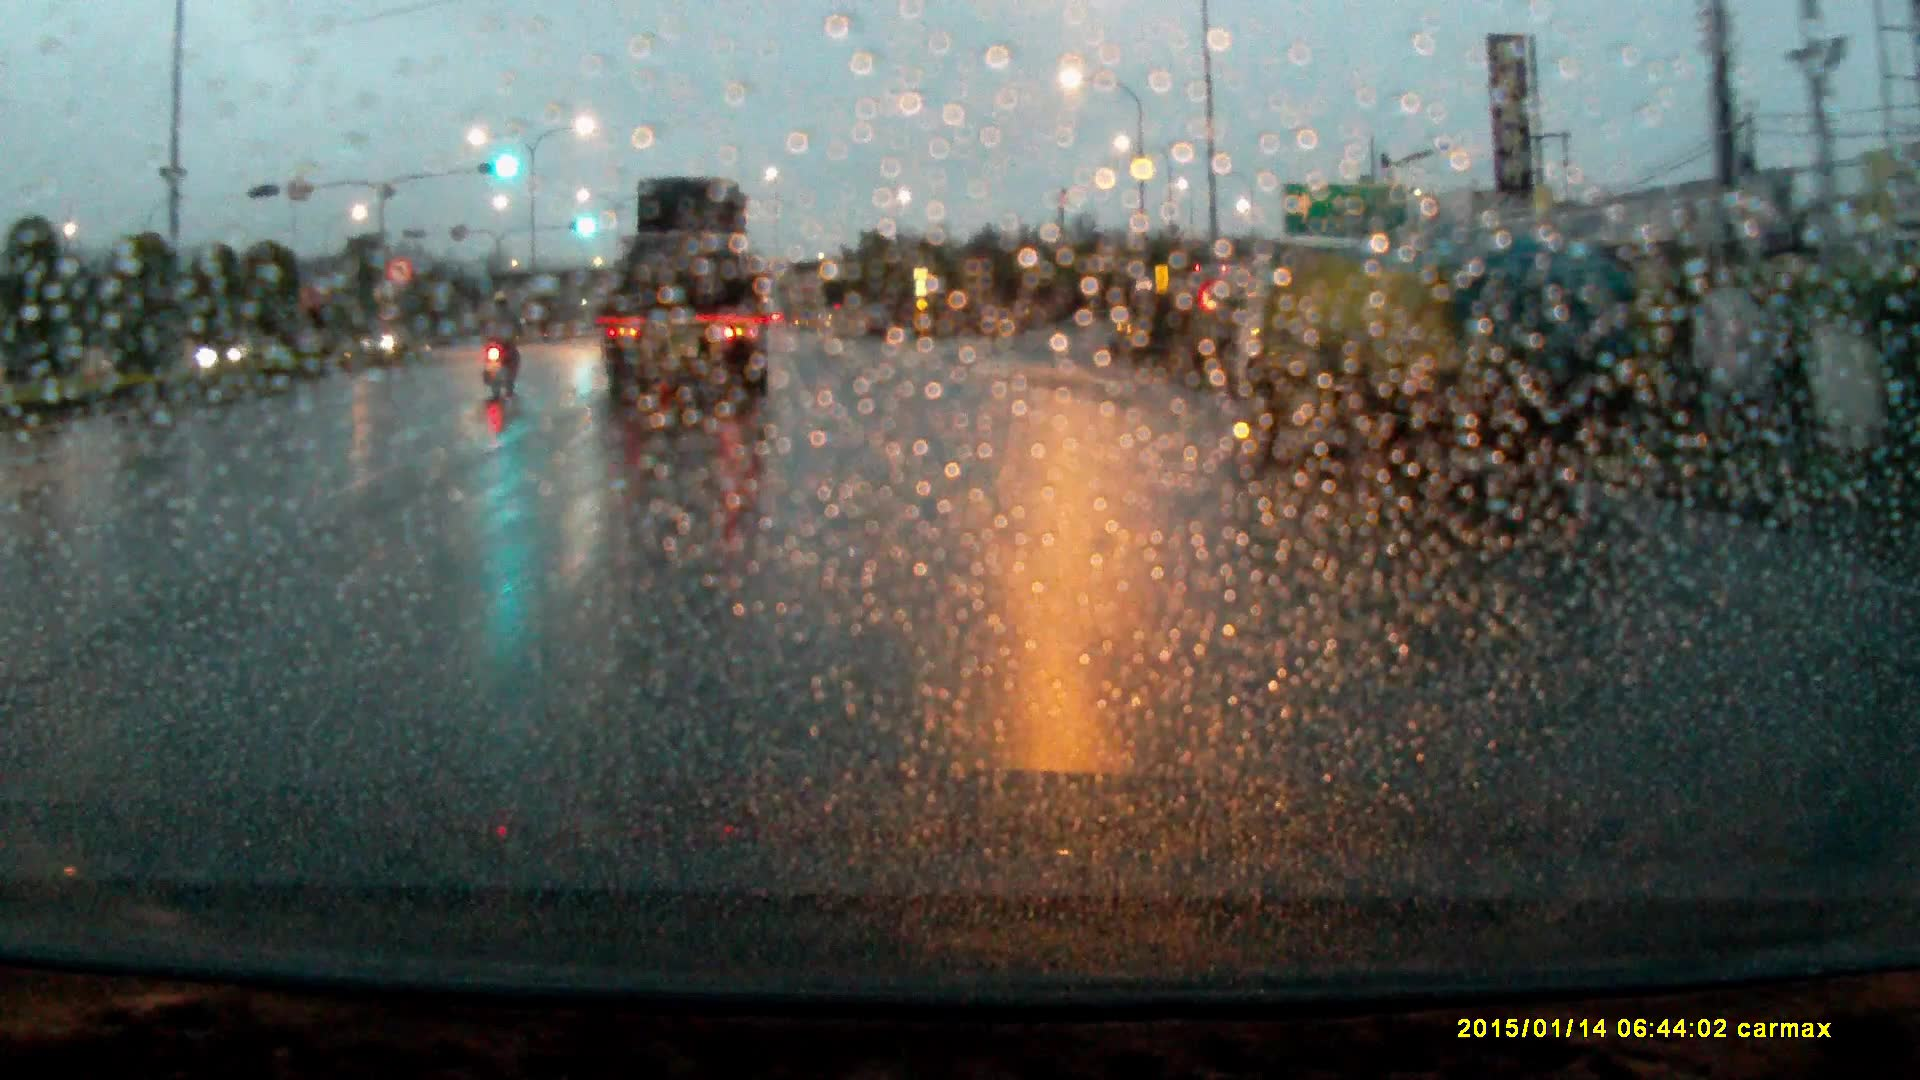rider: (479, 287, 527, 399)
vehicle: (1236, 216, 1619, 469), (600, 172, 773, 400)
